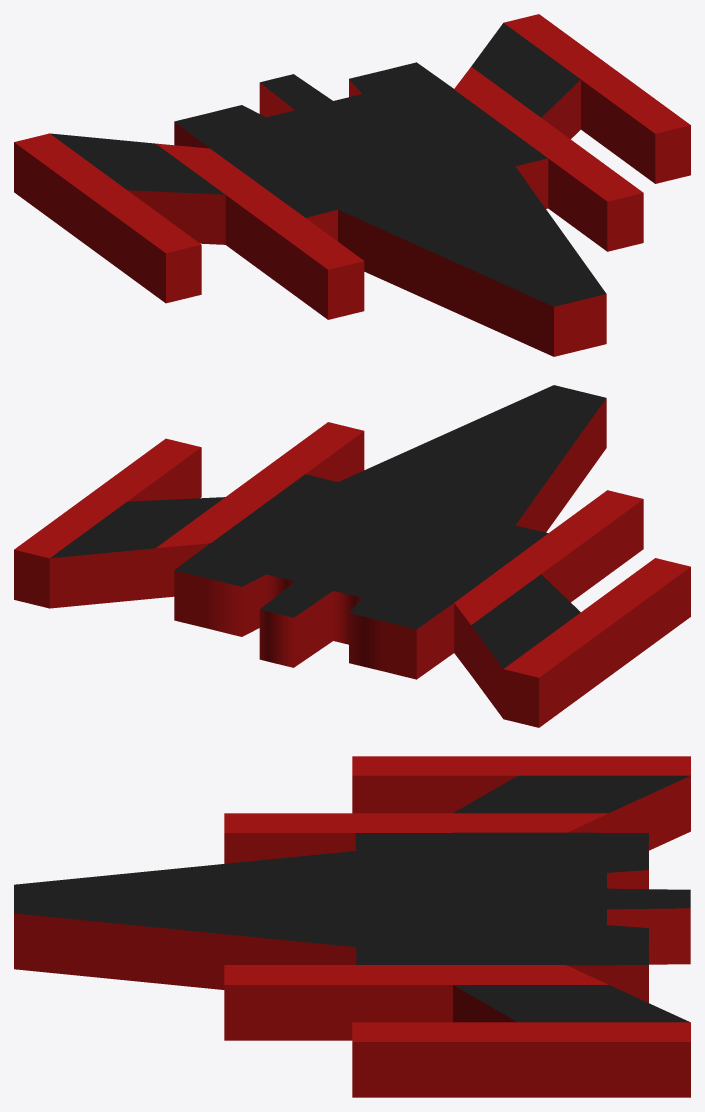
File: Player_Midway.FBX
The picture shows the model from 3 angles, top to bottom: view 1: azimuth 30°, elevation 25°; view 2: azimuth 150°, elevation 25°; view 3: azimuth 270°, elevation 25°; orthographic projection. The views are drawn at different scales.
Visible parts, largest first — view 1: Box003; view 2: Box003; view 3: Box003.
Part boxes in pixels (left/top/right/bottom): Box003: left=14, top=14, right=690, bottom=356; Box003: left=14, top=385, right=690, bottom=727; Box003: left=14, top=756, right=690, bottom=1097.
Bounding box in the file's own units: 68.86 × 6.28 × 68.98.
